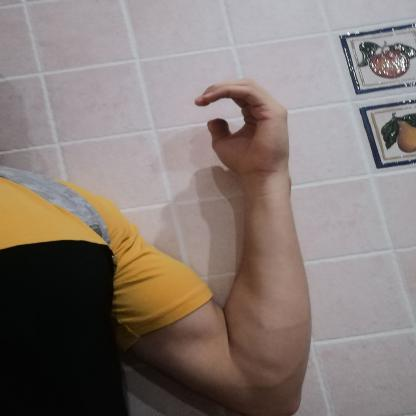JEEM: (180, 69, 302, 182)
